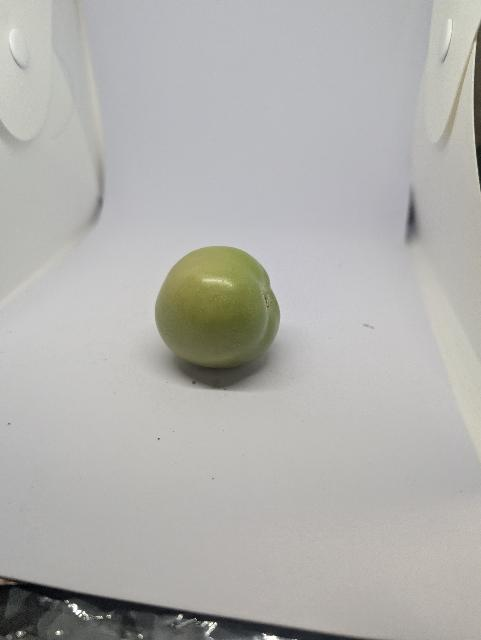green: (154, 243, 283, 372)
